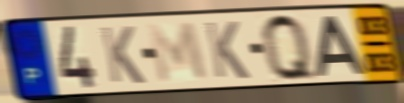4: (58, 24, 98, 91)
A: (314, 14, 369, 78)
K: (202, 20, 252, 81), (98, 25, 147, 86)
M: (145, 20, 211, 86)
Q: (259, 10, 321, 83)
